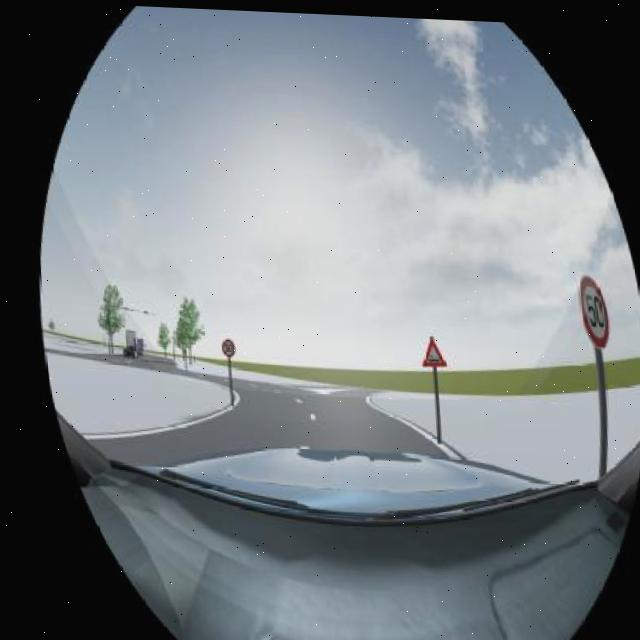Speed limit 50: (569, 266, 609, 345)
